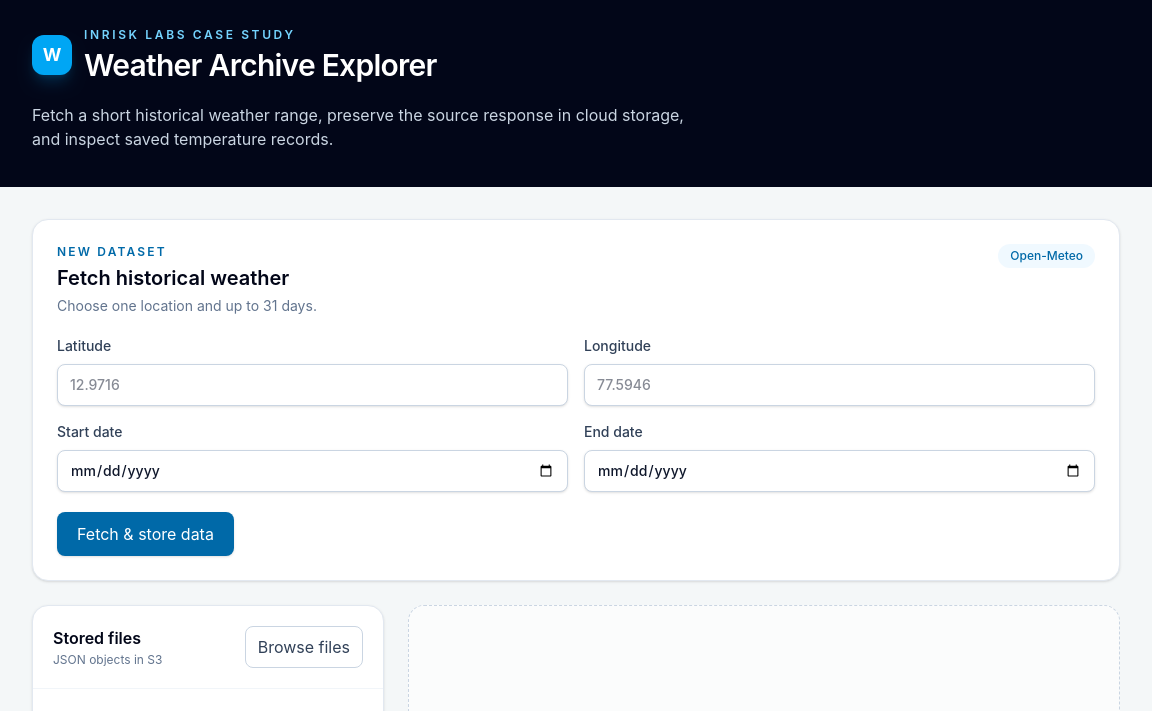
weather explorer › reports malformed stored JSON instead of rendering an empty chart
Step 1. Click the button "Browse files" → (304, 647), box [245,626,363,668]
(page scrolled)
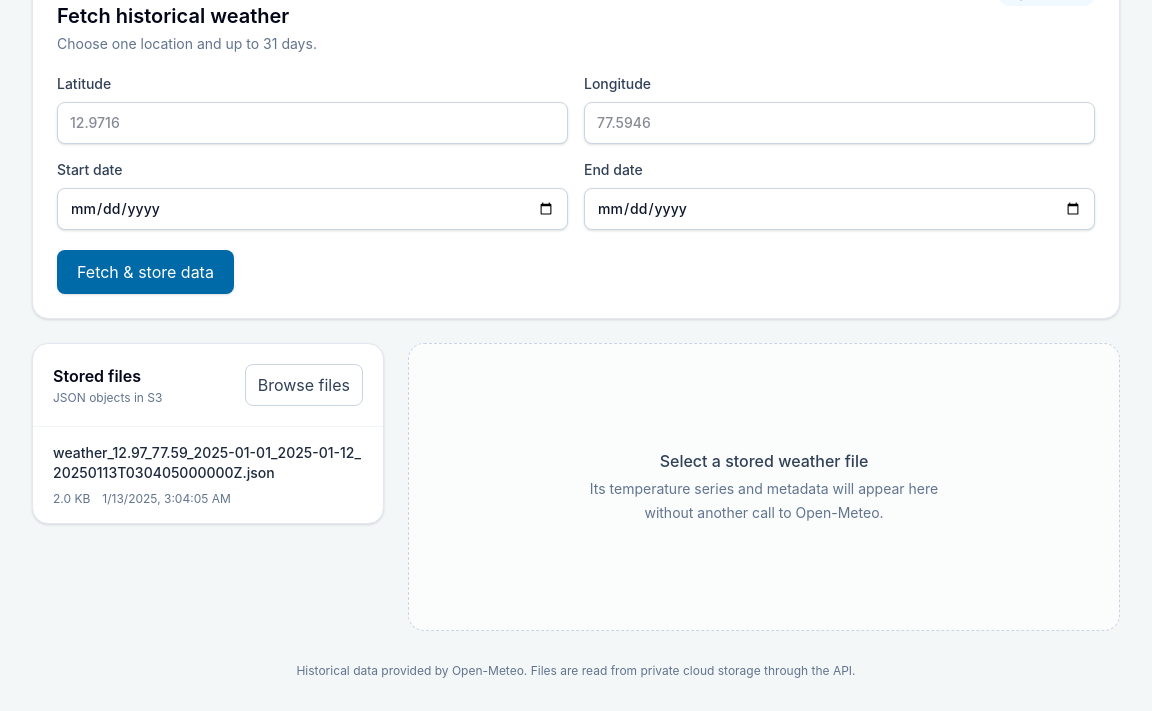
Step 2. Click the button "weather_12.97_77.59_2025-01-01_2025-01-12_20250113T030405000000Z.json" → (208, 475), box [33,427,383,523]
(page scrolled)
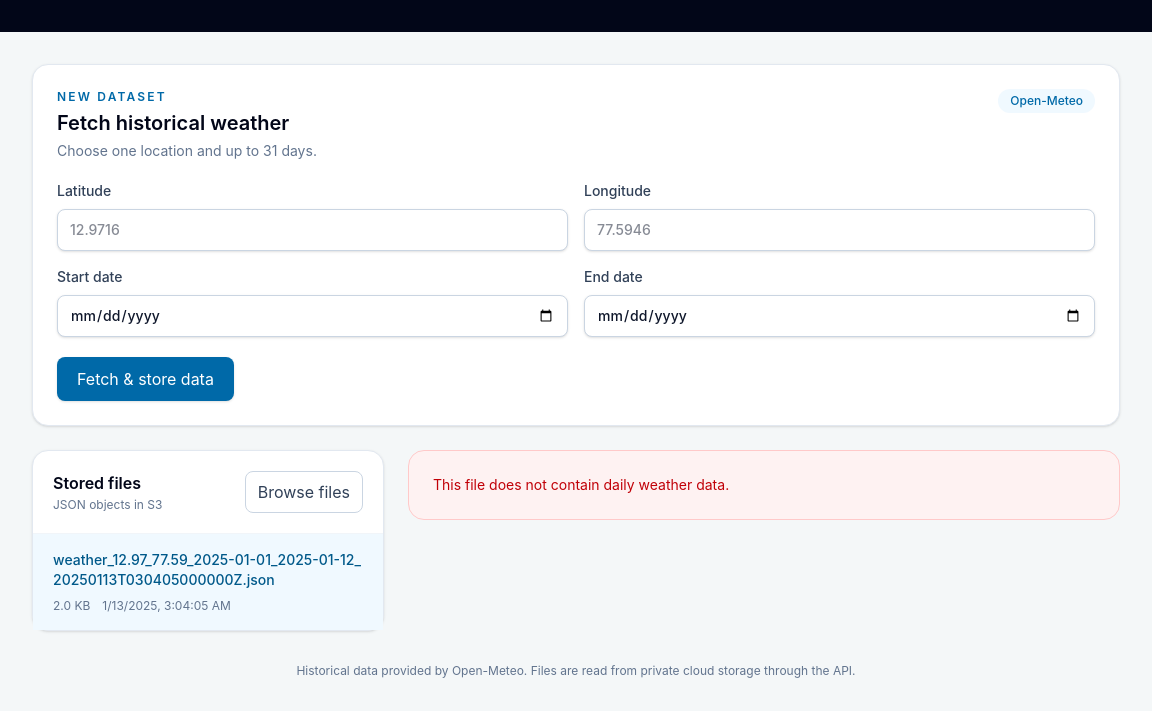
Check: the message reads "This file does not contain daily weather data.", box [433,476,729,493]
